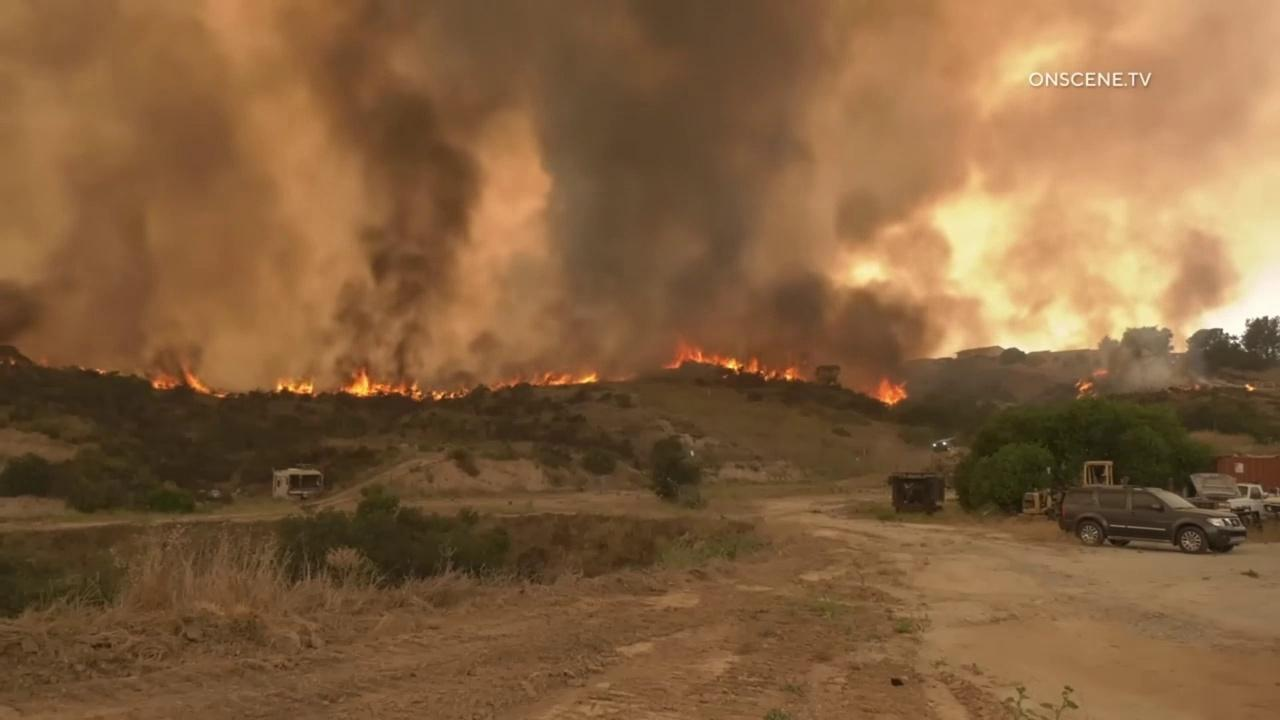fire: (661, 337, 800, 383), (339, 367, 424, 402), (150, 365, 229, 398), (867, 377, 908, 407), (530, 370, 599, 387), (274, 378, 317, 398), (495, 372, 526, 391), (432, 388, 469, 402), (1073, 377, 1094, 399), (1092, 369, 1107, 377), (94, 367, 107, 375), (1245, 383, 1256, 392), (8, 357, 15, 365), (1194, 384, 1201, 391), (79, 366, 86, 372)
smoke: (0, 0, 1280, 397)
